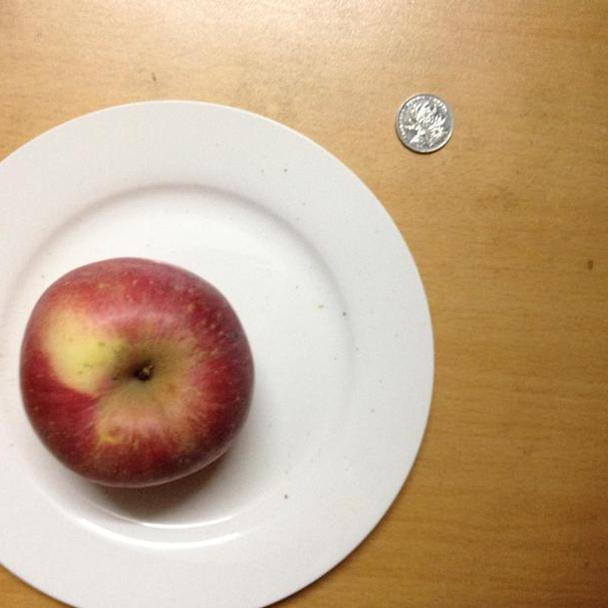apple: (18, 256, 256, 489)
